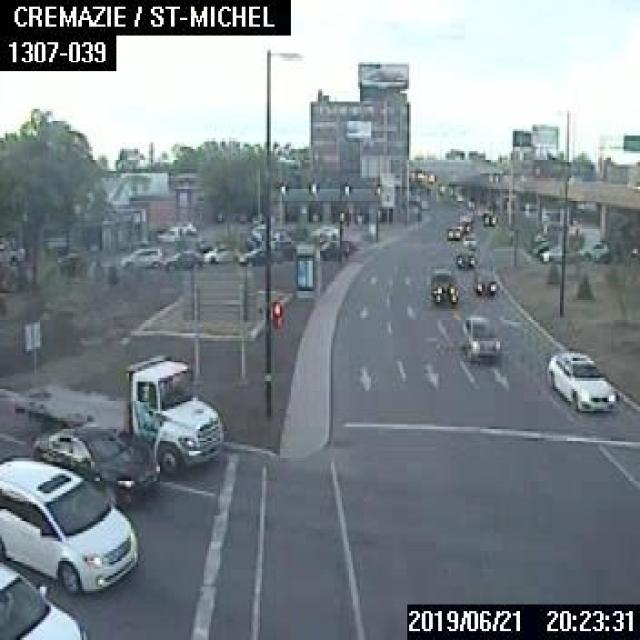vehicle: (11, 353, 222, 475), (0, 452, 136, 592), (32, 420, 158, 504), (0, 558, 84, 638), (544, 351, 614, 411), (456, 315, 500, 362), (428, 266, 457, 302), (161, 247, 204, 270), (120, 245, 160, 267), (202, 242, 238, 263), (238, 247, 281, 264), (471, 266, 496, 295), (540, 245, 582, 262), (0, 236, 24, 264), (318, 238, 348, 260), (579, 240, 608, 262), (455, 248, 475, 268), (156, 225, 178, 243), (311, 224, 338, 238), (175, 220, 195, 234), (457, 212, 470, 233), (461, 230, 476, 248), (480, 209, 493, 224), (446, 225, 458, 238)
